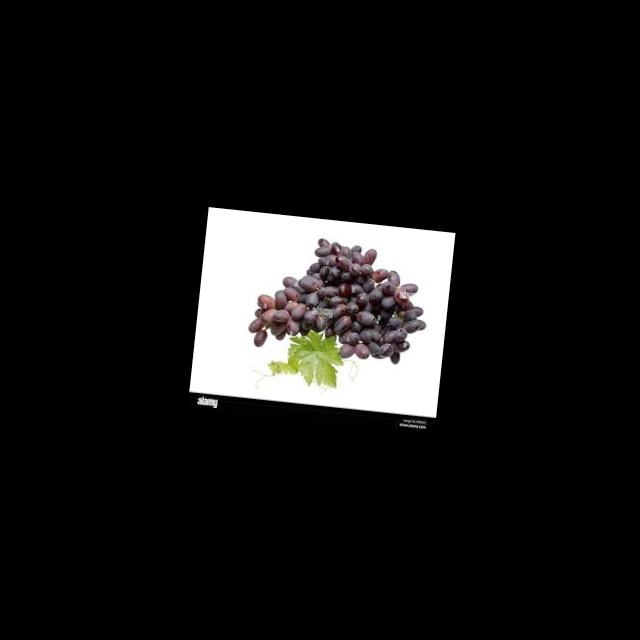grape: (244, 230, 432, 366)
